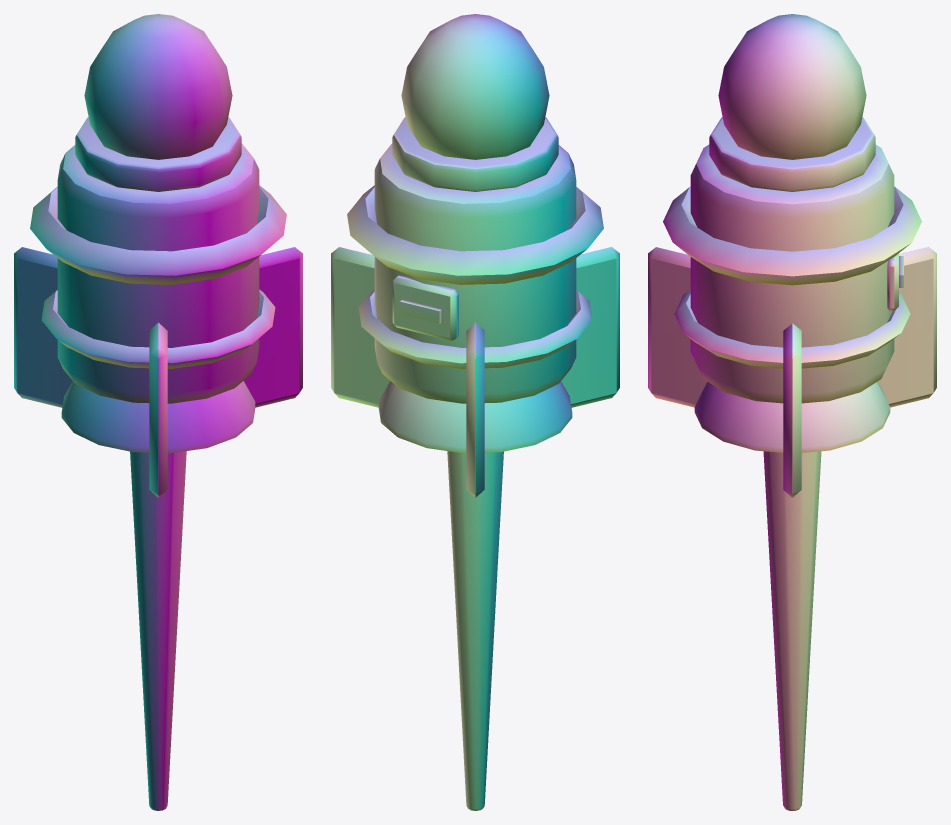
File: gad_beacon.glb
The picture shows the model from 3 angles, left to right: view 1: azimuth 30°, elevation 25°; view 2: azimuth 150°, elevation 25°; view 3: azimuth 270°, elevation 25°; orthographic projection.
Visible parts, largest first — view 1: beacon; view 2: beacon; view 3: beacon.
Boxes of the visible parts, x1,y1,x2,y2 form: beacon: (14,14,302,810); beacon: (331,14,619,810); beacon: (648,14,936,810).
Size of the model in its own units: 0.064 by 0.188 by 0.0624.
